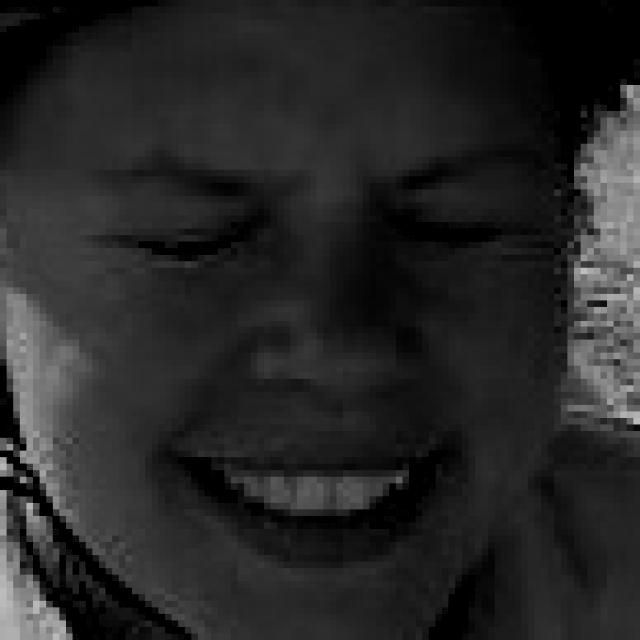real: (36, 12, 581, 576), (72, 166, 561, 285)
